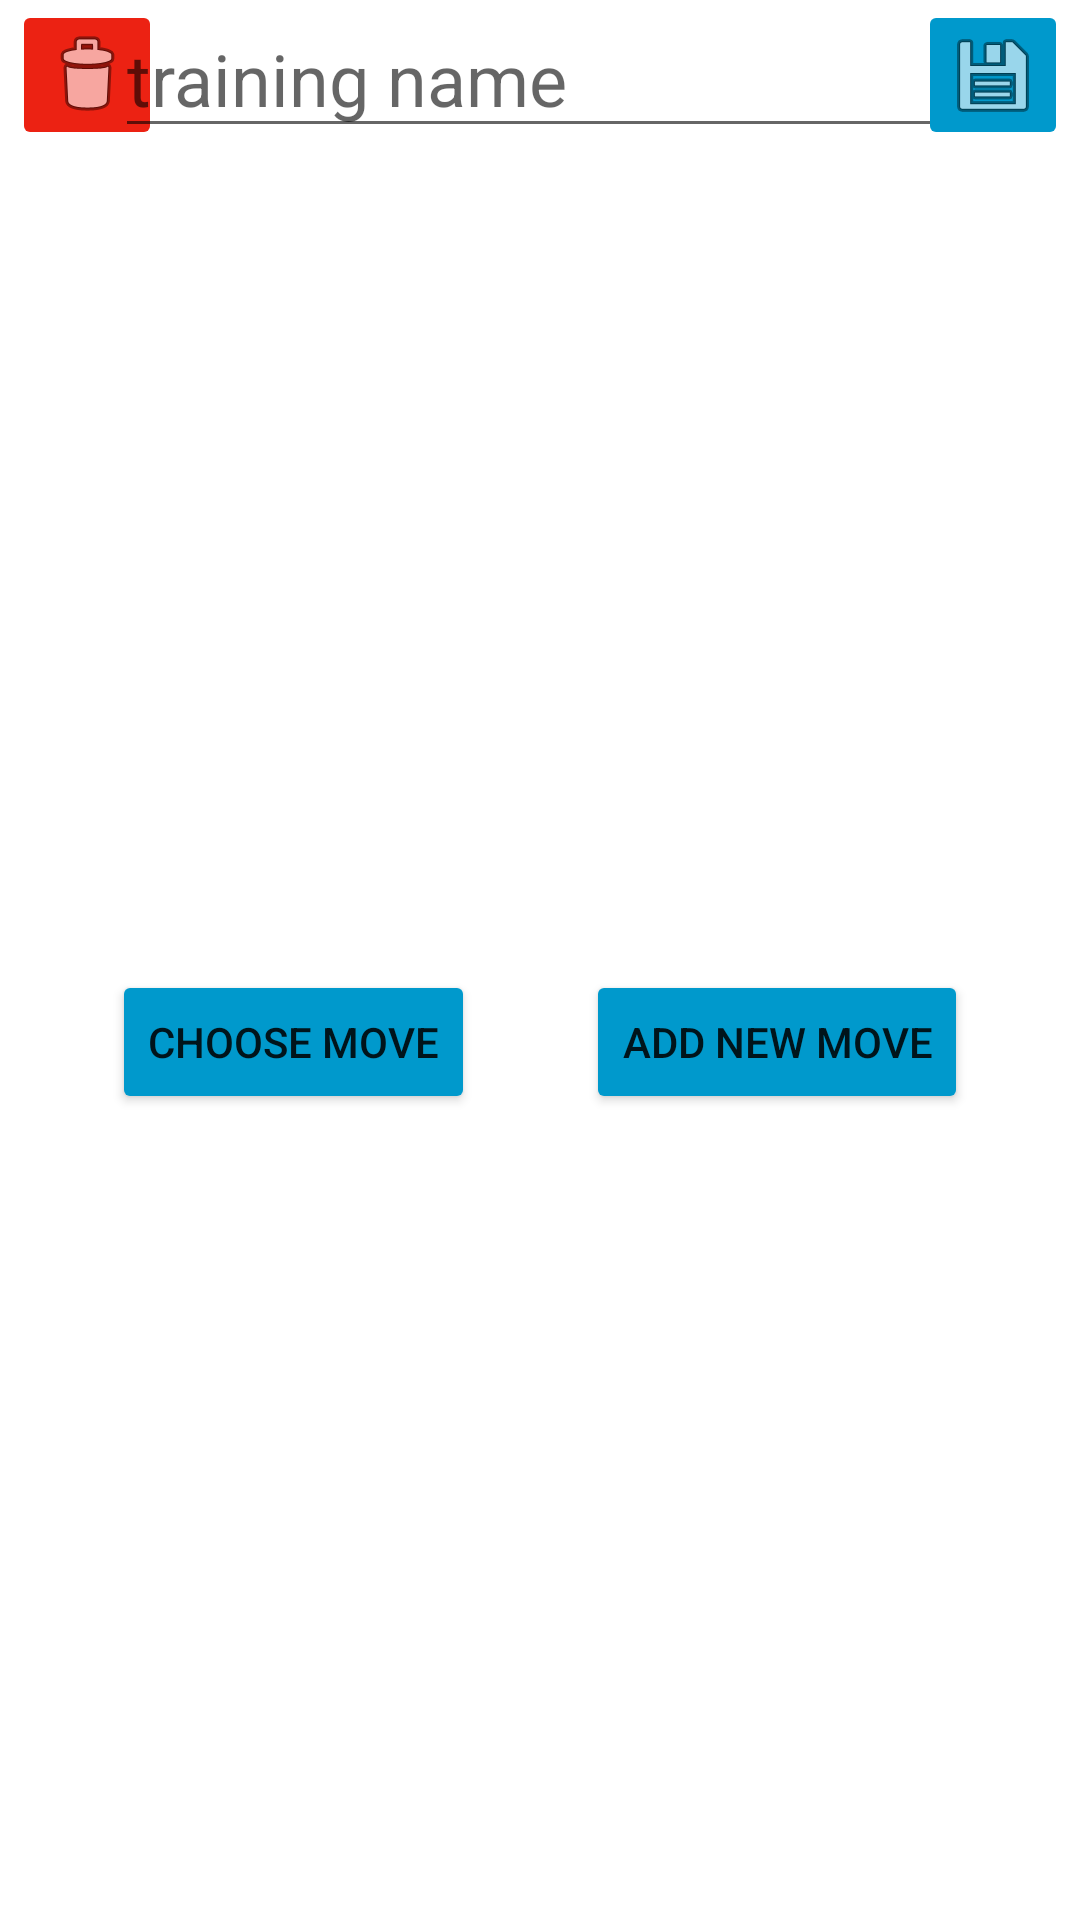

Icon bounding boxes for this 1080x1920 phone screenshot, format (x1, y1, x2, y2):
delete training: (24, 18, 162, 132)
save training: (918, 18, 1056, 132)
